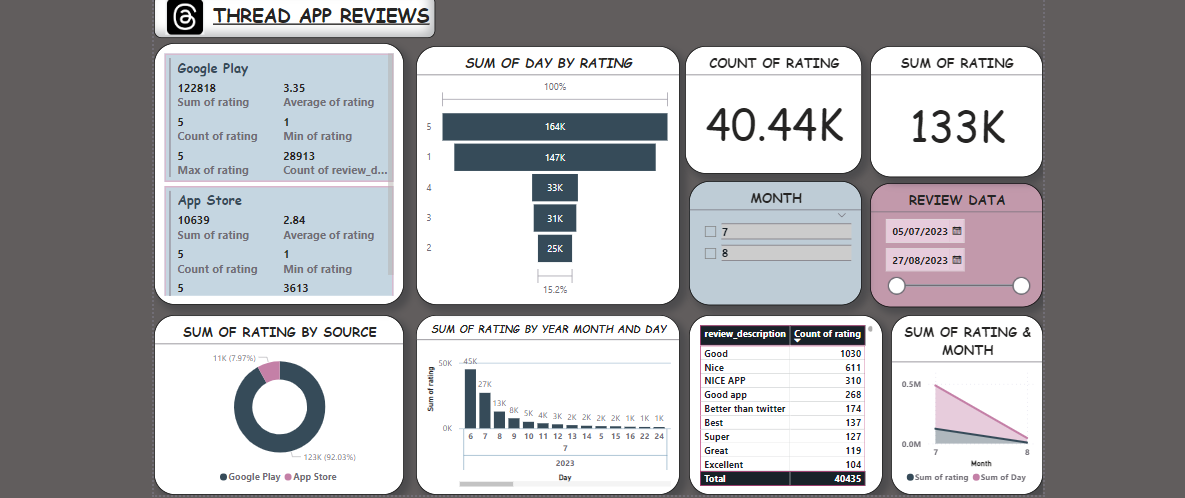

Layout of this report page (visuals, bound fields, positions):
{"tool":"powerbi","page":{"name":"Page 1","canvas":[1280,720],"ordinal":0},"visuals":[{"type":"columnChart","title":"SUM OF RATING BY YEAR MONTH AND DAY","fields":{"Category":["threads_reviews.Year","threads_reviews.Month","threads_reviews.Day"],"Y":["Sum(threads_reviews.rating)"]},"box":[377.3,460.8,380.2,259.2],"z":0},{"type":"donutChart","title":"SUM OF RATING BY SOURCE","fields":{"Y":["Sum(threads_reviews.rating)"],"Category":["threads_reviews.source"]},"box":[0,460.8,360,259.2],"z":1000},{"type":"slicer","title":"REVIEW DATA ","fields":{"Values":["threads_reviews.review_date"]},"box":[1031,270.7,249.1,178.6],"z":2000},{"type":"multiRowCard","fields":{"Values":["Sum(threads_reviews.rating)","Avg(threads_reviews.rating)","Count(threads_reviews.rating)","Min(threads_reviews.rating)","Max(threads_reviews.rating)","threads_reviews.review_description","threads_reviews.source"]},"box":[0,69.1,360,377.3],"z":3000},{"type":"actionButton","box":[0,0,100,40],"z":4000},{"type":"tableEx","fields":{"Values":["threads_reviews.review_description","CountNonNull(threads_reviews.rating)"]},"box":[770.4,460.8,279.4,259.2],"z":5000},{"type":"funnel","title":"SUM OF DAY BY RATING","fields":{"Category":["threads_reviews.rating"],"Y":["Sum(threads_reviews.Day)"]},"box":[377.3,73.4,380.2,373],"z":6000},{"type":"card","title":"COUNT OF RATING","fields":{"Values":["CountNonNull(threads_reviews.rating)"]},"box":[764.6,73.4,254.9,184.3],"z":7000},{"type":"card","title":"SUM OF RATING","fields":{"Values":["Sum(threads_reviews.rating)"]},"box":[1031,73.4,249.1,188.6],"z":8000},{"type":"textbox","box":[0,0,404.6,61.9],"z":9000},{"type":"slicer","title":"MONTH","fields":{"Values":["threads_reviews.Month"]},"box":[770.4,267.8,249.1,178.6],"z":10000},{"type":"image","box":[11.5,0,66.2,61.9],"z":11000},{"type":"stackedAreaChart","title":"SUM OF RATING  &  MONTH","fields":{"Category":["threads_reviews.Month"],"Y":["Sum(threads_reviews.rating)","Sum(threads_reviews.Day)"]},"box":[1061.3,460.8,218.9,259.2],"z":12000}]}

Visuals, with their boxes in screenshot pixels (x1, y1, x2, y2):
"SUM OF RATING BY YEAR MONTH AND DAY" columnChart: (left=417, top=310, right=676, bottom=487)
"SUM OF RATING BY SOURCE" donutChart: (left=160, top=310, right=405, bottom=487)
"REVIEW DATA " slicer: (left=862, top=181, right=1032, bottom=303)
multiRowCard - Sum(threads_reviews.rating) x Avg(threads_reviews.rating): (left=160, top=44, right=405, bottom=301)
actionButton: (left=160, top=0, right=229, bottom=24)
tableEx - threads_reviews.review_description x CountNonNull(threads_reviews.rating): (left=685, top=310, right=875, bottom=487)
"SUM OF DAY BY RATING" funnel: (left=417, top=47, right=676, bottom=301)
"COUNT OF RATING" card: (left=681, top=47, right=854, bottom=172)
"SUM OF RATING" card: (left=862, top=47, right=1032, bottom=175)
textbox: (left=160, top=0, right=436, bottom=39)
"MONTH" slicer: (left=685, top=179, right=854, bottom=301)
image: (left=168, top=0, right=213, bottom=39)
"SUM OF RATING  &  MONTH" stackedAreaChart: (left=883, top=310, right=1032, bottom=487)
